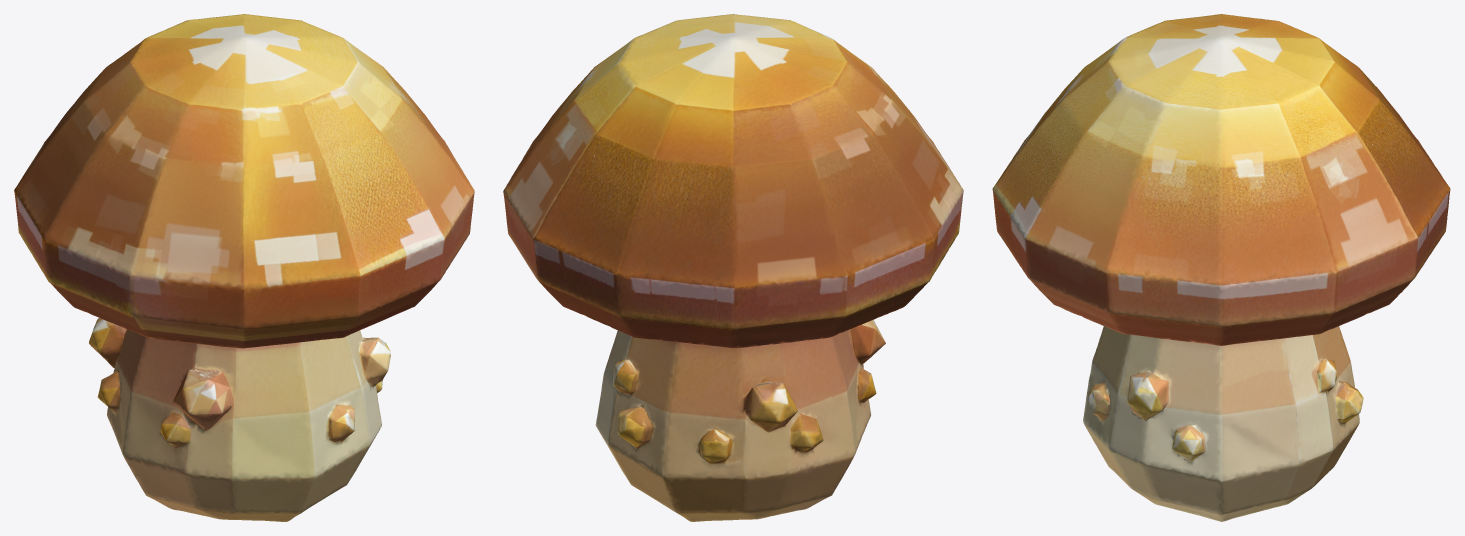
Rendered from Glowing_Gold_Mushroom.fbx.
3 renders of one model, left to right at view 1: azimuth 30°, elevation 25°; view 2: azimuth 150°, elevation 25°; view 3: azimuth 270°, elevation 25°, orthographic.
Visible parts, largest first — view 1: texture_mapping; view 2: texture_mapping; view 3: texture_mapping.
Part boxes in pixels (bbox=[...]): texture_mapping: bbox=[14, 14, 474, 521]; texture_mapping: bbox=[503, 14, 963, 521]; texture_mapping: bbox=[992, 14, 1450, 521].
Bounding box in the file's own units: 0.9148 × 0.9143 × 0.9957.
1 material, 1 textured.
